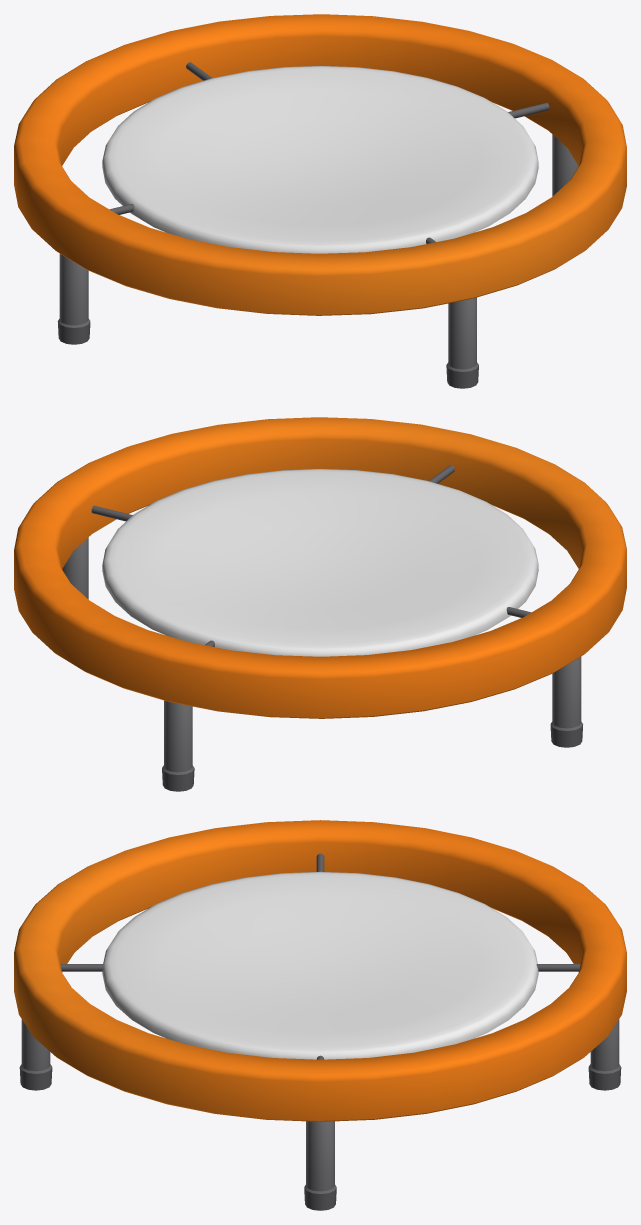
Rendered from Trampoline.FBX.
3 views of the same model, one above another, from view 1: azimuth 30°, elevation 25°; view 2: azimuth 150°, elevation 25°; view 3: azimuth 270°, elevation 25° (orthographic).
Parts seen in each view (by area): view 1: Circle001; view 2: Circle001; view 3: Circle001.
Boxes of the visible parts, <box> form: Circle001: <box>14,14,626,388</box>; Circle001: <box>14,417,626,791</box>; Circle001: <box>14,820,626,1210</box>.
Size of the model in its own units: 68.82 by 16.98 by 68.82.
